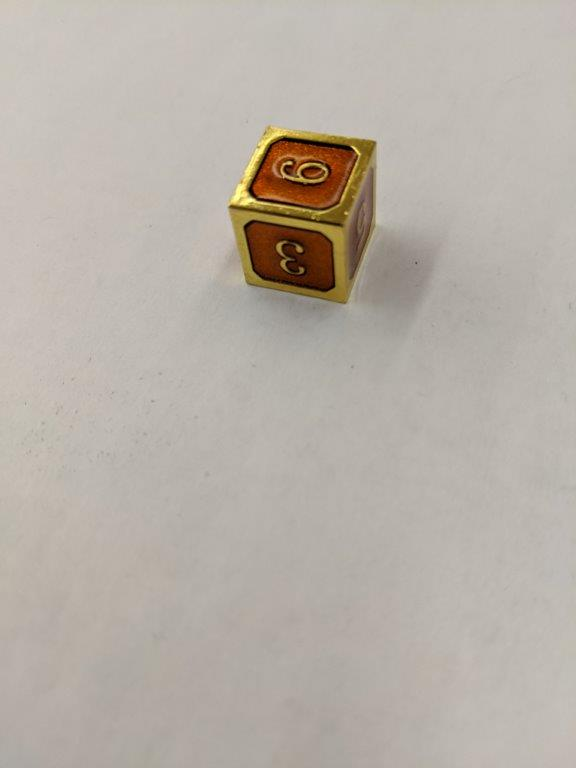d6-6: (226, 120, 377, 303)
